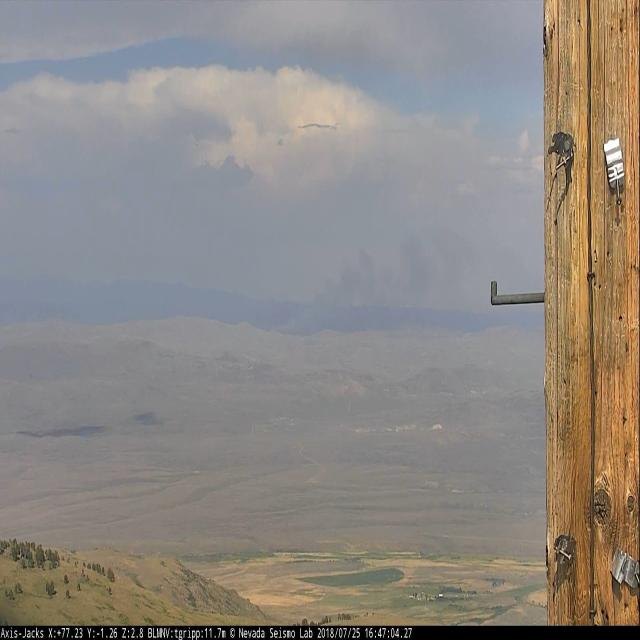smoke: (273, 233, 430, 335)
